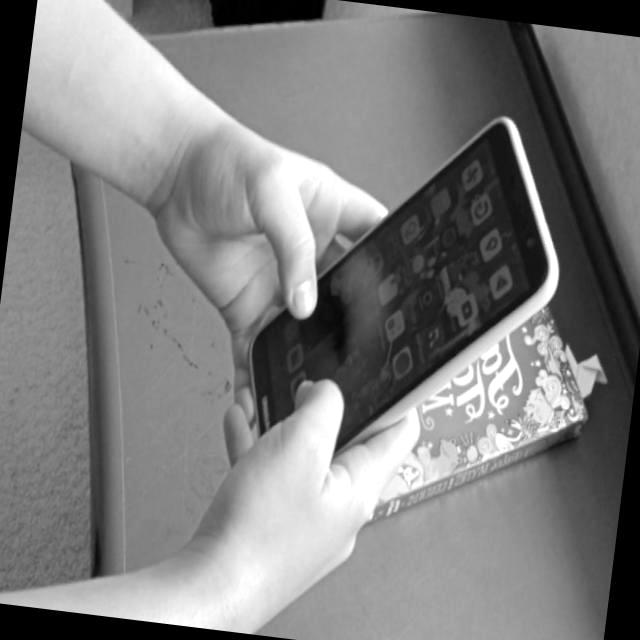phone: (236, 86, 578, 487)
